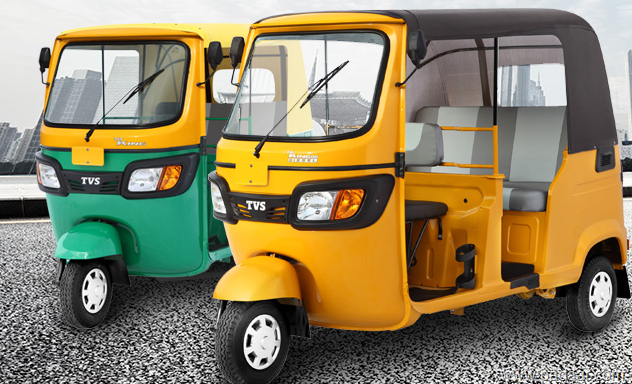auto: (210, 13, 632, 381), (27, 25, 237, 347)
